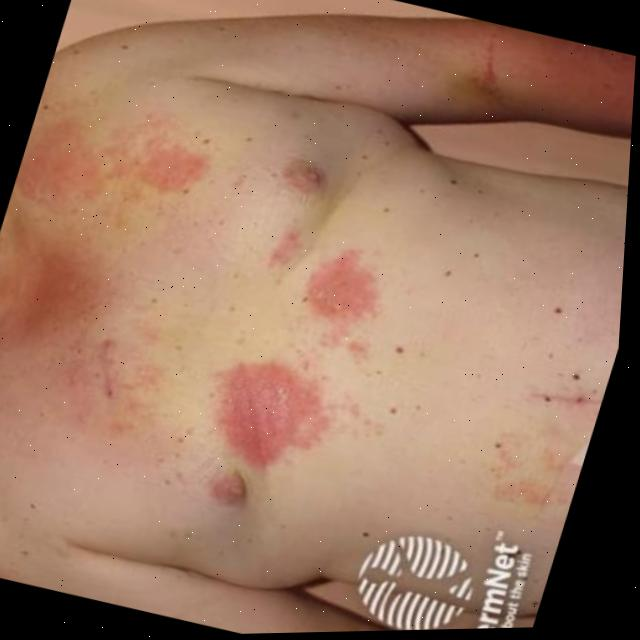Eczema: (0, 97, 429, 521)
